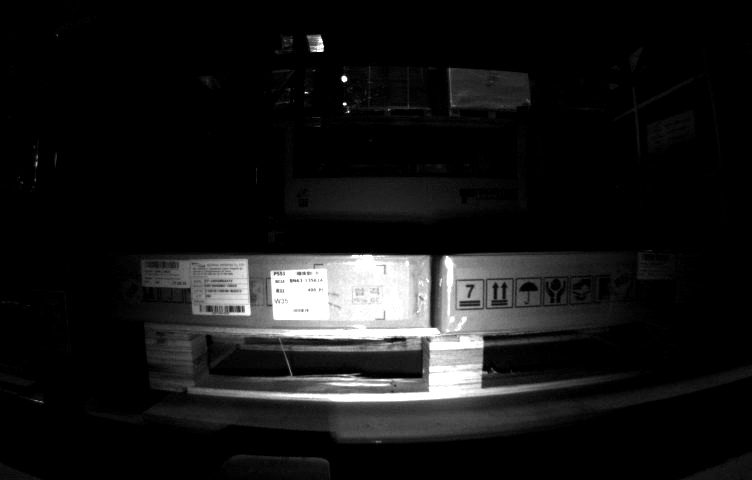True Barcode: (268, 271, 329, 318)
